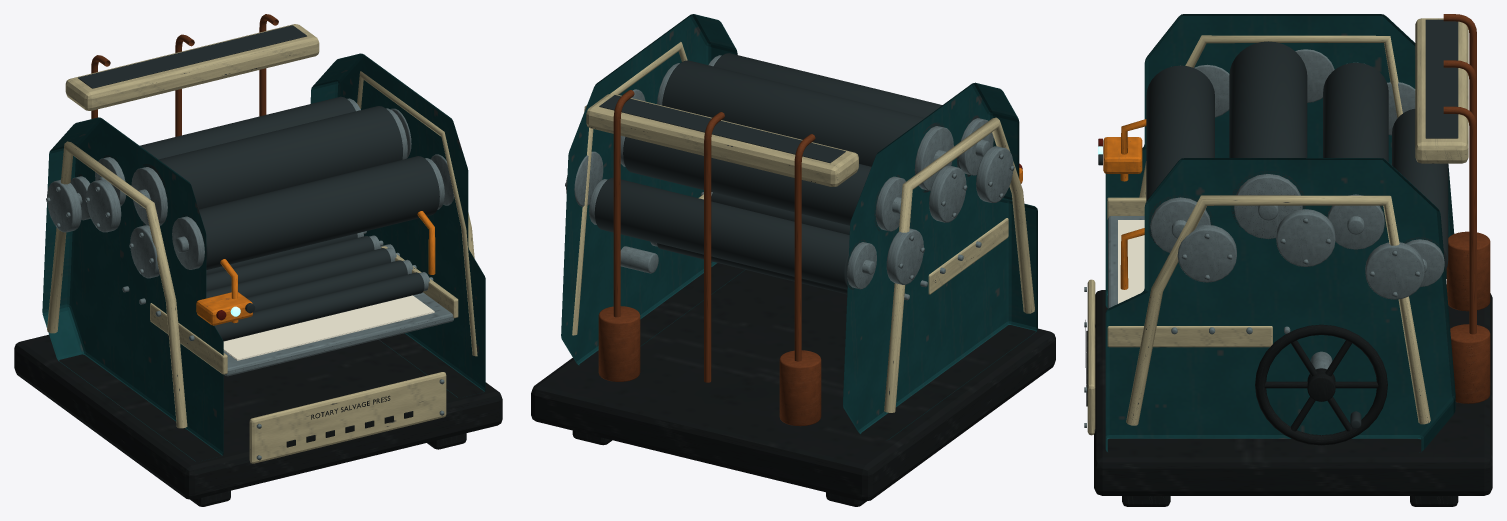
File: bellwether-rotary-press.glb
3 renders of one model, left to right at view 1: azimuth 30°, elevation 25°; view 2: azimuth 150°, elevation 25°; view 3: azimuth 270°, elevation 25°, orthographic. The views are drawn at different scales.
Visible parts, largest first — view 1: bellwether-rotary-press | Black rubber and ink, bellwether-rotary-press | Petrol enamel, bellwether-rotary-press | Cast graphite iron, bellwether-rotary-press | Aged ivory enamel, bellwether-rotary-press | Machined steel, bellwether-rotary-press | Paper and gauge face, bellwether-rotary-press | Warning ochre, bellwether-rotary-press | Copper ink plumbing; view 2: bellwether-rotary-press | Cast graphite iron, bellwether-rotary-press | Petrol enamel, bellwether-rotary-press | Black rubber and ink, bellwether-rotary-press | Aged ivory enamel, bellwether-rotary-press | Machined steel, bellwether-rotary-press | Copper ink plumbing; view 3: bellwether-rotary-press | Petrol enamel, bellwether-rotary-press | Cast graphite iron, bellwether-rotary-press | Black rubber and ink, bellwether-rotary-press | Machined steel, bellwether-rotary-press | Aged ivory enamel, bellwether-rotary-press | Copper ink plumbing, bellwether-rotary-press | Warning ochre, bellwether-rotary-press | Paper and gauge face.
Boxes of the visible parts, <box> form: bellwether-rotary-press | Black rubber and ink: <box>77,25,439,341</box>; bellwether-rotary-press | Petrol enamel: <box>42,53,485,461</box>; bellwether-rotary-press | Cast graphite iron: <box>14,333,502,506</box>; bellwether-rotary-press | Aged ivory enamel: <box>47,24,477,463</box>; bellwether-rotary-press | Machined steel: <box>46,98,454,460</box>; bellwether-rotary-press | Paper and gauge face: <box>223,295,434,360</box>; bellwether-rotary-press | Warning ochre: <box>196,211,435,325</box>; bellwether-rotary-press | Copper ink plumbing: <box>91,14,278,136</box>; bellwether-rotary-press | Cast graphite iron: <box>531,263,1055,506</box>; bellwether-rotary-press | Petrol enamel: <box>561,14,1037,439</box>; bellwether-rotary-press | Black rubber and ink: <box>594,53,979,294</box>; bellwether-rotary-press | Aged ivory enamel: <box>572,42,1034,412</box>; bellwether-rotary-press | Machined steel: <box>565,55,1014,300</box>; bellwether-rotary-press | Copper ink plumbing: <box>598,90,821,426</box>; bellwether-rotary-press | Petrol enamel: <box>1105,14,1455,452</box>; bellwether-rotary-press | Cast graphite iron: <box>1085,290,1492,506</box>; bellwether-rotary-press | Black rubber and ink: <box>1098,19,1458,429</box>; bellwether-rotary-press | Machined steel: <box>1084,49,1444,427</box>; bellwether-rotary-press | Aged ivory enamel: <box>1087,18,1468,435</box>; bellwether-rotary-press | Copper ink plumbing: <box>1443,14,1490,403</box>; bellwether-rotary-press | Warning ochre: <box>1103,119,1146,289</box>; bellwether-rotary-press | Paper and gauge face: <box>1118,220,1144,303</box>.
Bounding box in the file's own units: 2.77 × 2.64 × 2.61.
10 materials, 7 textured.
